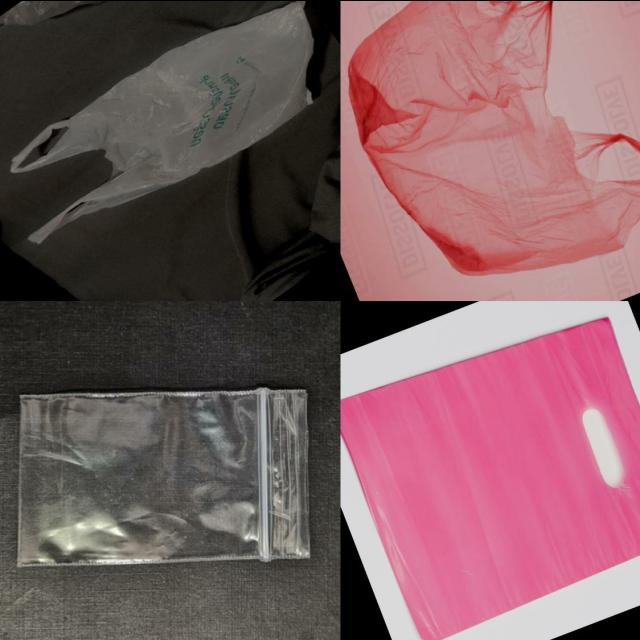plastik: (342, 317, 640, 640), (349, 0, 640, 275), (12, 0, 312, 241), (19, 388, 308, 564)
